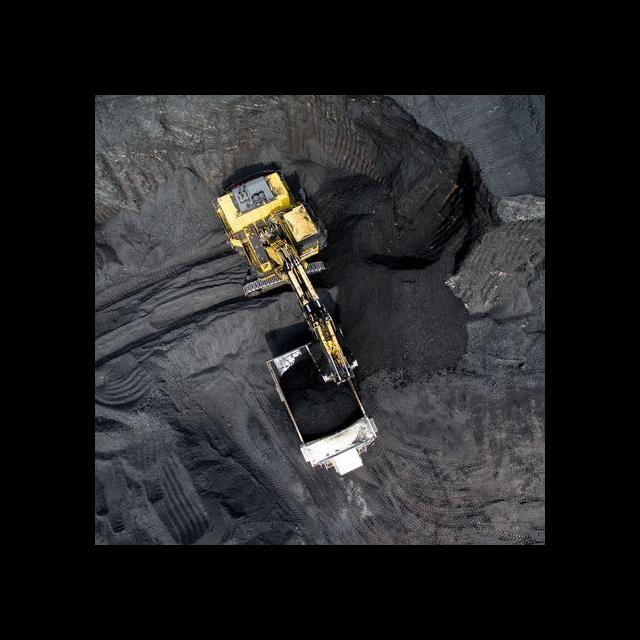Excavator: (210, 164, 371, 388)
dump truck: (262, 336, 381, 480)
